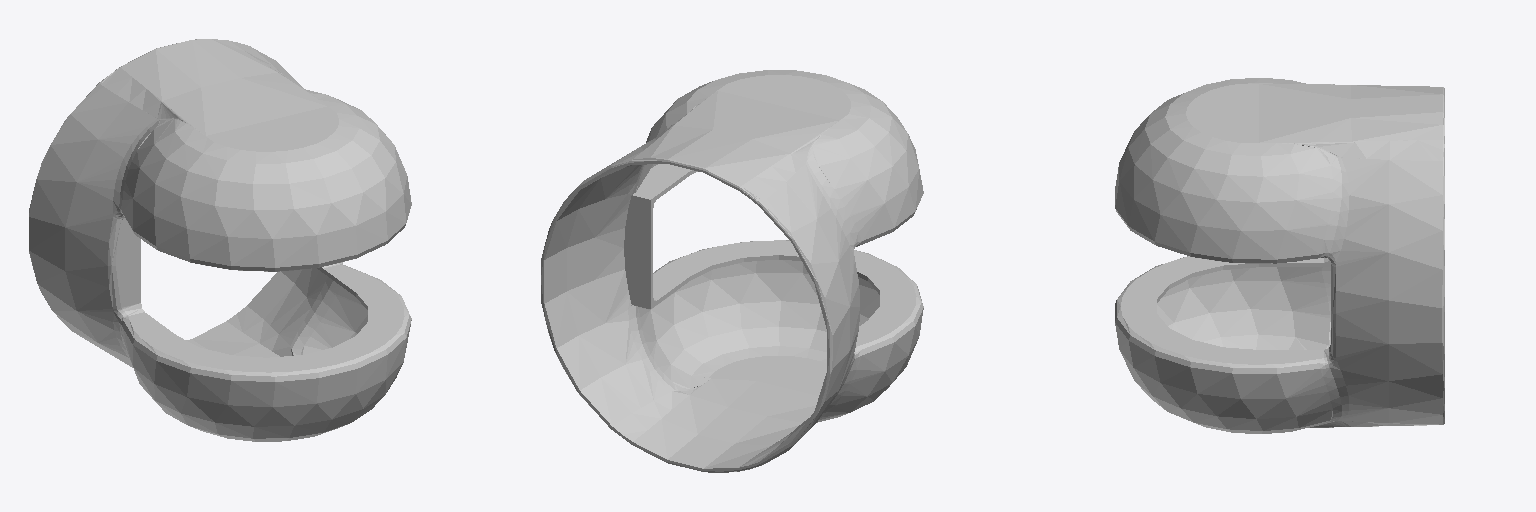
Rendered from middle_neck.obj.
3 views of the same model, side by side, from view 1: azimuth 30°, elevation 25°; view 2: azimuth 150°, elevation 25°; view 3: azimuth 270°, elevation 25° (orthographic).
Bounding box in the file's own units: 0.1393 × 0.139 × 0.1363.